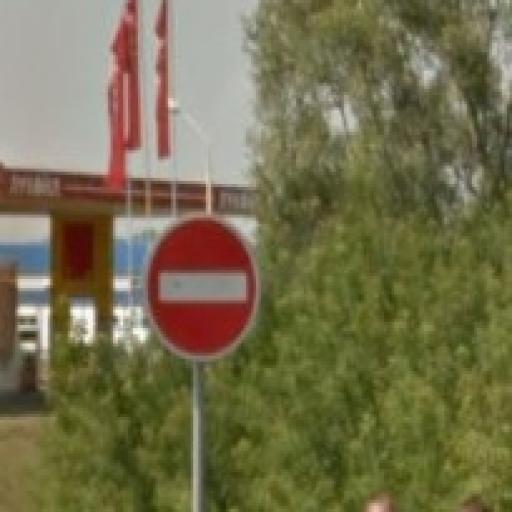traffic_sign: (144, 213, 262, 363)
